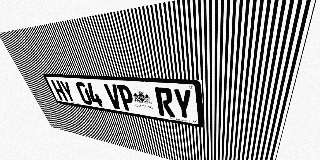0: (75, 82, 93, 105)
4: (85, 82, 104, 107)
H: (50, 80, 68, 101)
P: (116, 84, 136, 112)
R: (154, 87, 175, 118)
V: (103, 84, 123, 110)
Y: (172, 88, 193, 120), (59, 81, 77, 103)
